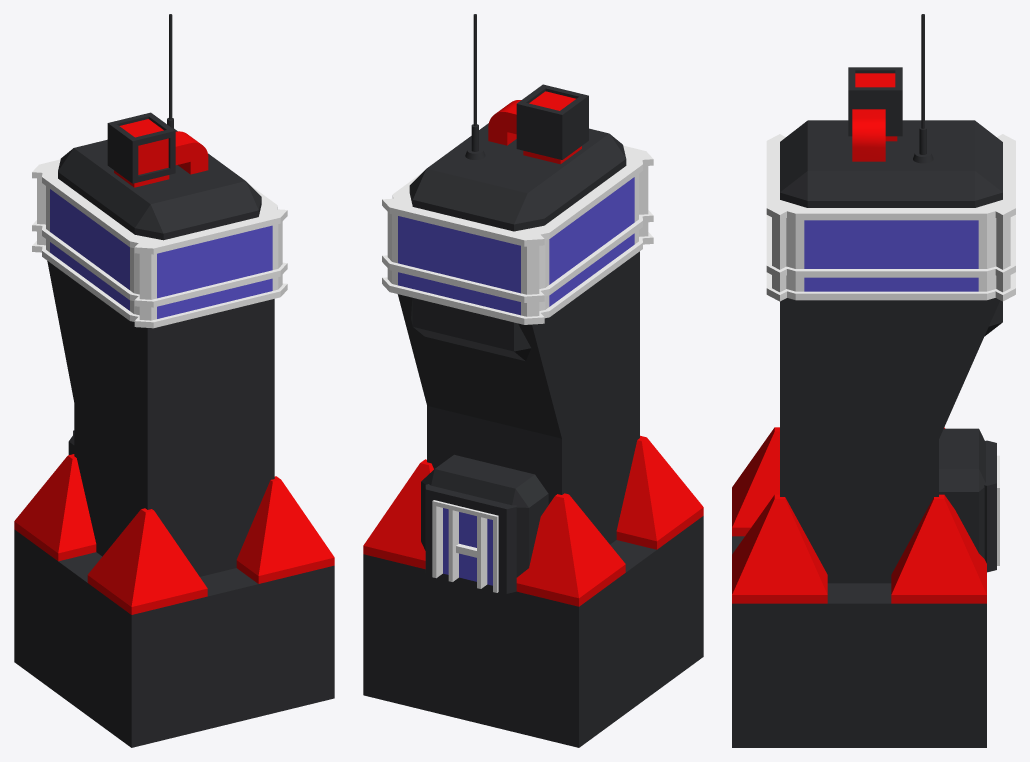
The model's file is turretControl.fbx.
3 views of the same model, side by side, from view 1: azimuth 30°, elevation 25°; view 2: azimuth 150°, elevation 25°; view 3: azimuth 270°, elevation 25° (orthographic). The views are drawn at different scales.
Parts seen in each view (by area): view 1: block_default_0, block_default_14, wall_skyscraperGlassDivider%_4, block_rounded_7, wall_skyscraperGlassDivider%_3, roof_point_rounded_10, roof_point_rounded_9, detail_airSmall_12, roof_point_rounded_11, slope_default_1, wall_skyscraperGlassDivider%_5; view 2: block_default_14, block_default_0, block_rounded_7, wall_skyscraperGlassDivider%_5, slope_default_1, wall_skyscraperGlassDivider%_3, wall_skyscraperDoor%_15, roof_point_rounded_11, roof_point_rounded_10, detail_airSmall_12, block_rounded_16, roof_point_rounded_8 (+2 smaller); view 3: block_default_0, block_default_14, wall_skyscraperGlassDivider%_2, block_rounded_7, roof_point_rounded_9, roof_point_rounded_8, detail_airSmall_12, block_rounded_16, slope_default_1, roof_point_rounded_10, wall_skyscraperGlassDivider%_4, wall_skyscraperGlassDivider%_5 (+2 smaller).
Part boxes in pixels (box(x1,y1,x2,y2)): block_default_0: box(74, 280, 274, 576); block_default_14: box(14, 529, 334, 747); wall_skyscraperGlassDivider%_4: box(134, 208, 287, 328); block_rounded_7: box(58, 128, 261, 348); wall_skyscraperGlassDivider%_3: box(42, 168, 150, 321); roof_point_rounded_10: box(87, 508, 207, 614); roof_point_rounded_9: box(236, 476, 334, 583); detail_airSmall_12: box(107, 112, 208, 187); roof_point_rounded_11: box(14, 454, 96, 561); slope_default_1: box(47, 261, 74, 401); wall_skyscraperGlassDivider%_5: box(32, 159, 60, 252); block_default_14: box(363, 516, 703, 747); block_default_0: box(427, 251, 639, 544); block_rounded_7: box(409, 123, 626, 361); wall_skyscraperGlassDivider%_5: box(382, 198, 544, 324); slope_default_1: box(397, 294, 561, 438); wall_skyscraperGlassDivider%_3: box(528, 154, 642, 318); wall_skyscraperDoor%_15: box(425, 484, 516, 593); roof_point_rounded_11: box(516, 493, 625, 606); roof_point_rounded_10: box(616, 435, 703, 549); detail_airSmall_12: box(488, 84, 588, 164); block_rounded_16: box(421, 454, 548, 577); roof_point_rounded_8: box(363, 459, 433, 569); block_default_0: box(780, 298, 938, 583); block_default_14: box(732, 536, 986, 747); wall_skyscraperGlassDivider%_2: box(777, 204, 1005, 300); block_rounded_7: box(780, 120, 1002, 336); roof_point_rounded_9: box(732, 494, 827, 603); roof_point_rounded_8: box(891, 494, 986, 603); detail_airSmall_12: box(848, 67, 902, 161); block_rounded_16: box(939, 428, 985, 558); slope_default_1: box(939, 298, 1000, 438); roof_point_rounded_10: box(732, 427, 779, 536); wall_skyscraperGlassDivider%_4: box(766, 134, 792, 301); wall_skyscraperGlassDivider%_5: box(989, 134, 1015, 301).
Bounding box in the file's own units: 16 × 48 × 17.82.
